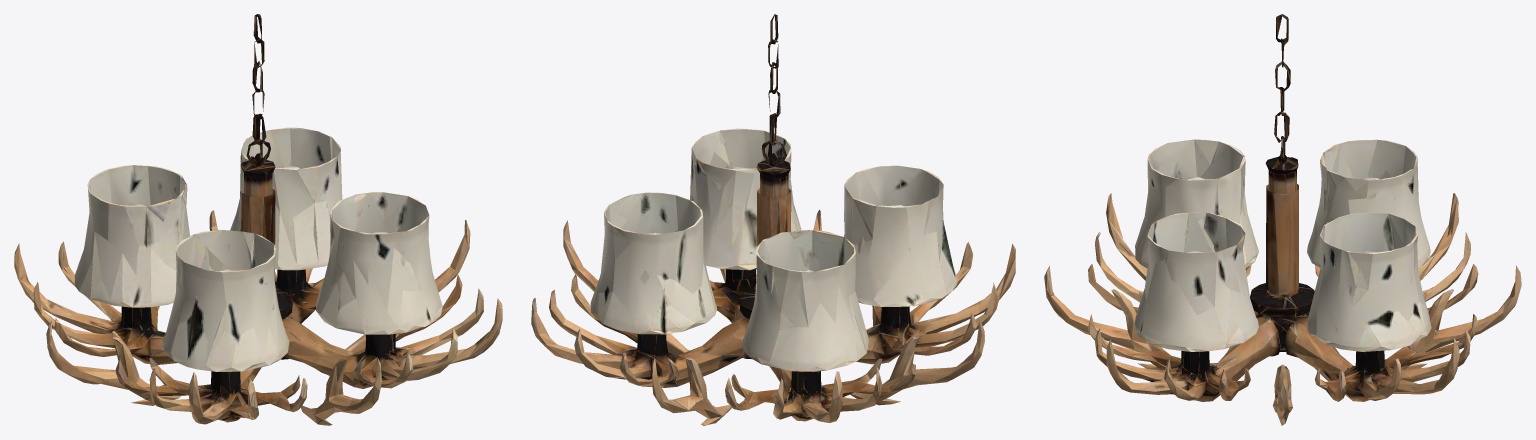
Rendered from antler_lamp.glb.
The picture shows the model from 3 angles, left to right: view 1: azimuth 30°, elevation 25°; view 2: azimuth 150°, elevation 25°; view 3: azimuth 270°, elevation 25°; orthographic projection. The views are drawn at different scales.
Bounding box in the file's own units: 1.89 × 1.57 × 1.9.
1 material, 1 textured.
